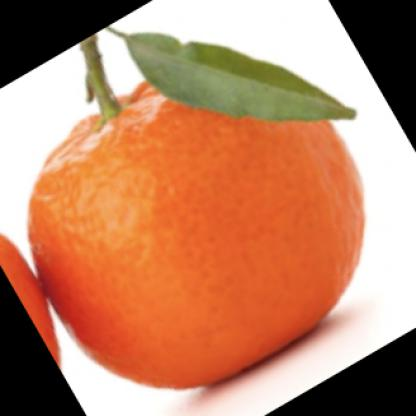orange: (18, 49, 368, 393)
